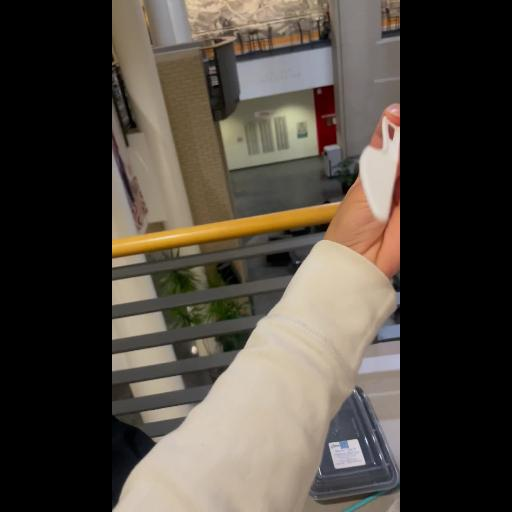utensil: (324, 100, 400, 234)
